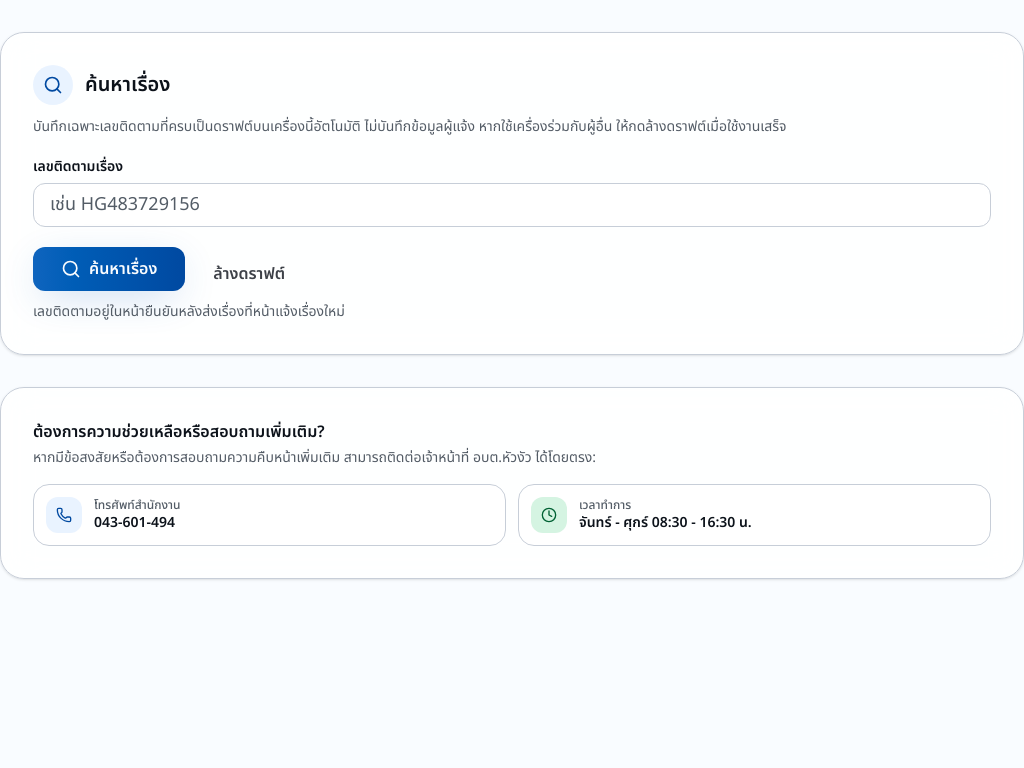
Test: ฟอร์มติดตามเรื่องสำหรับผู้สูงอายุ › เชื่อม hint และ error ที่ประกาศด้วย alert กับช่องกรอก
The width and height of the screenshot is (1024, 768).
Click the button "ค้นหาเรื่อง" at (109, 269), box [33,247,185,291]
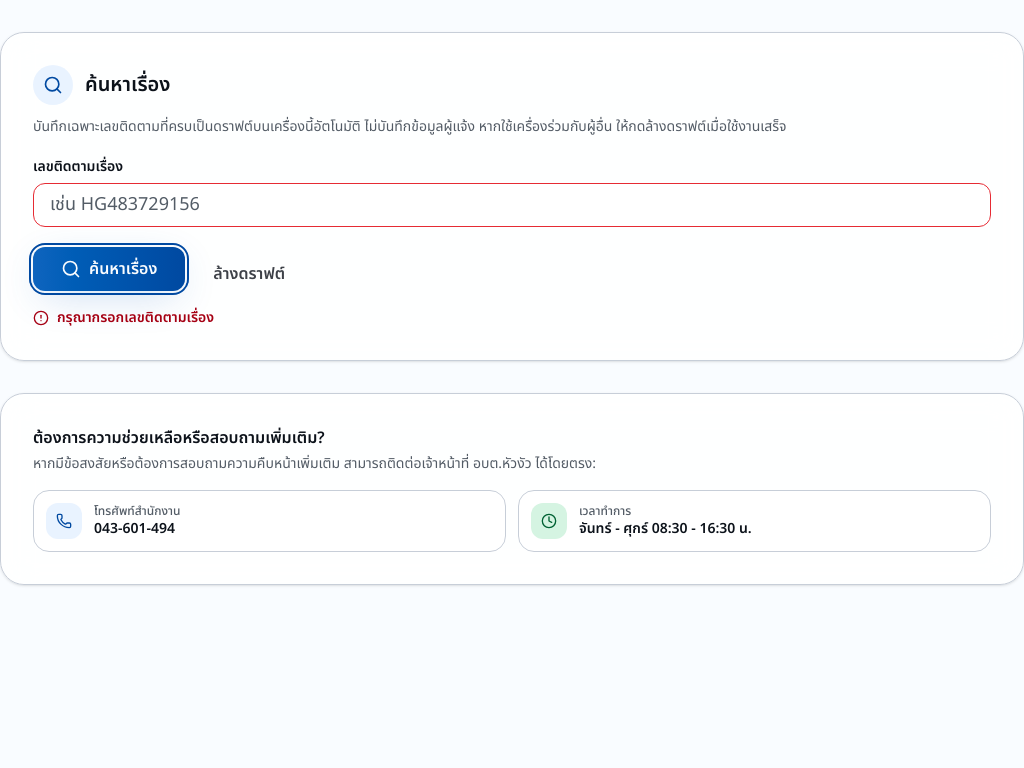
Expected: the message reads "กรุณากรอกเลขติดตามเรื่อง", [57,307,214,328]
